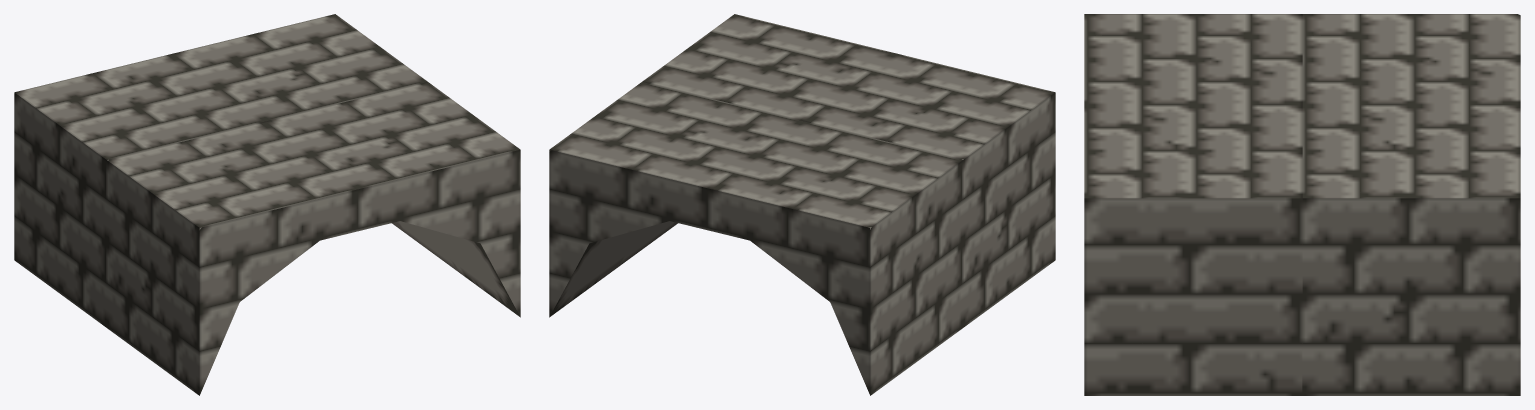
File: Ceiling_Arch_Skinny_x1.fbx
3 views of the same model, side by side, from view 1: azimuth 30°, elevation 25°; view 2: azimuth 150°, elevation 25°; view 3: azimuth 270°, elevation 25° (orthographic). The views are drawn at different scales.
Parts seen in each view (by area): view 1: Ceiling_Arch_Skinny_x1; view 2: Ceiling_Arch_Skinny_x1; view 3: Ceiling_Arch_Skinny_x1.
Part boxes in pixels (bbox=[...]): Ceiling_Arch_Skinny_x1: bbox=[14, 14, 520, 395]; Ceiling_Arch_Skinny_x1: bbox=[549, 14, 1055, 395]; Ceiling_Arch_Skinny_x1: bbox=[1084, 14, 1520, 395].
Bounding box in the file's own units: 400 × 200 × 400.
Materials: 1 (1 with a texture image).
